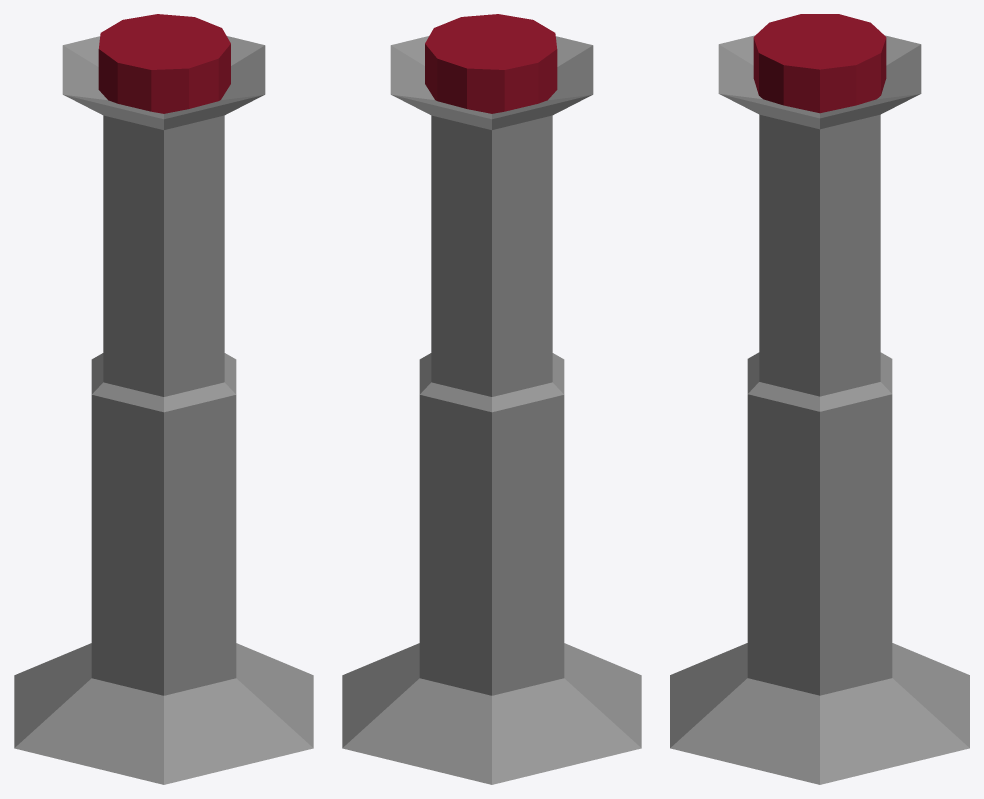
File: Exam_button_low.fbx
The picture shows the model from 3 angles, left to right: view 1: azimuth 30°, elevation 25°; view 2: azimuth 150°, elevation 25°; view 3: azimuth 270°, elevation 25°; orthographic projection.
Parts seen in each view (by area): view 1: Button_base, Button; view 2: Button_base, Button; view 3: Button_base, Button.
Boxes of the visible parts, <box> form: Button_base: <box>14,36,313,784</box>; Button: <box>98,14,230,113</box>; Button_base: <box>342,36,641,784</box>; Button: <box>425,14,557,113</box>; Button_base: <box>670,35,969,784</box>; Button: <box>753,14,886,113</box>.
Size of the model in its own units: 3.01 by 6.44 by 2.61.
